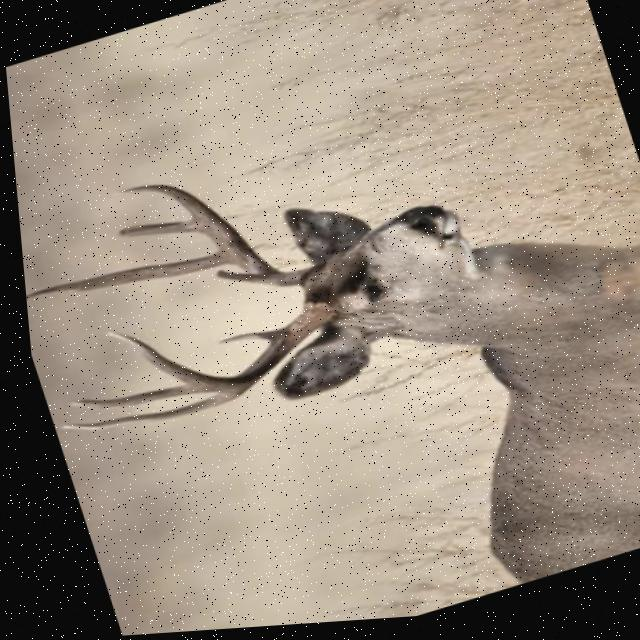L-F: (110, 185, 299, 290)
L-G1: (209, 271, 268, 289)
L-G2: (21, 254, 227, 298)
L-G3: (112, 221, 192, 238)
R-F: (99, 307, 326, 393)
R-G1: (211, 332, 275, 346)
R-G2: (53, 393, 238, 431)
R-G3: (61, 387, 204, 409)
